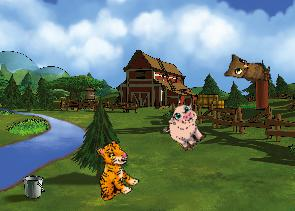owl: (224, 53, 271, 81)
pig: (158, 99, 213, 155)
tiger: (79, 137, 145, 206)
